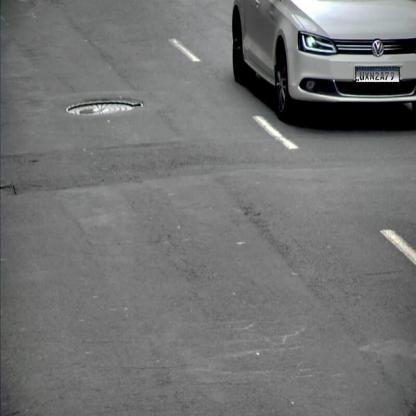PlacaM: (355, 66, 400, 82)
